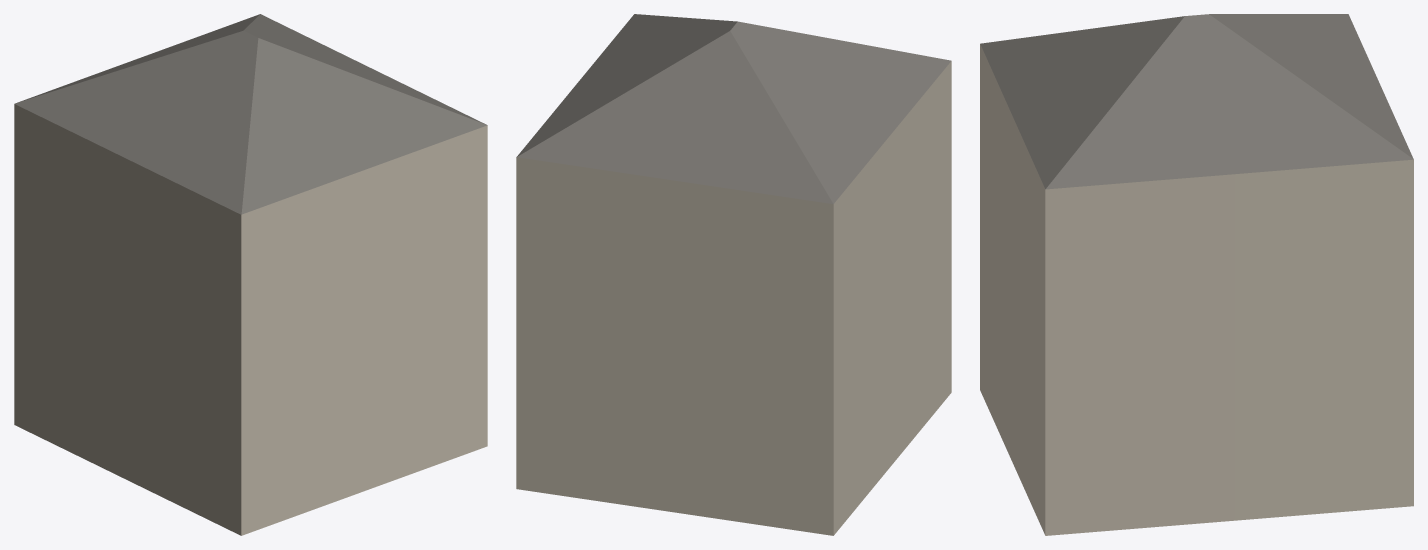
3 views of the same model, side by side, from view 1: azimuth 30°, elevation 25°; view 2: azimuth 150°, elevation 25°; view 3: azimuth 270°, elevation 25° (orthographic). The views are drawn at different scales.
Parts seen in each view (by area): view 1: HP-w428202608; view 2: HP-w428202608; view 3: HP-w428202608.
Part boxes in pixels (bbox=[...]): HP-w428202608: bbox=[14, 14, 487, 535]; HP-w428202608: bbox=[516, 14, 951, 535]; HP-w428202608: bbox=[980, 14, 1413, 535].
Size of the model in its own units: 13.03 by 15 by 13.62.
